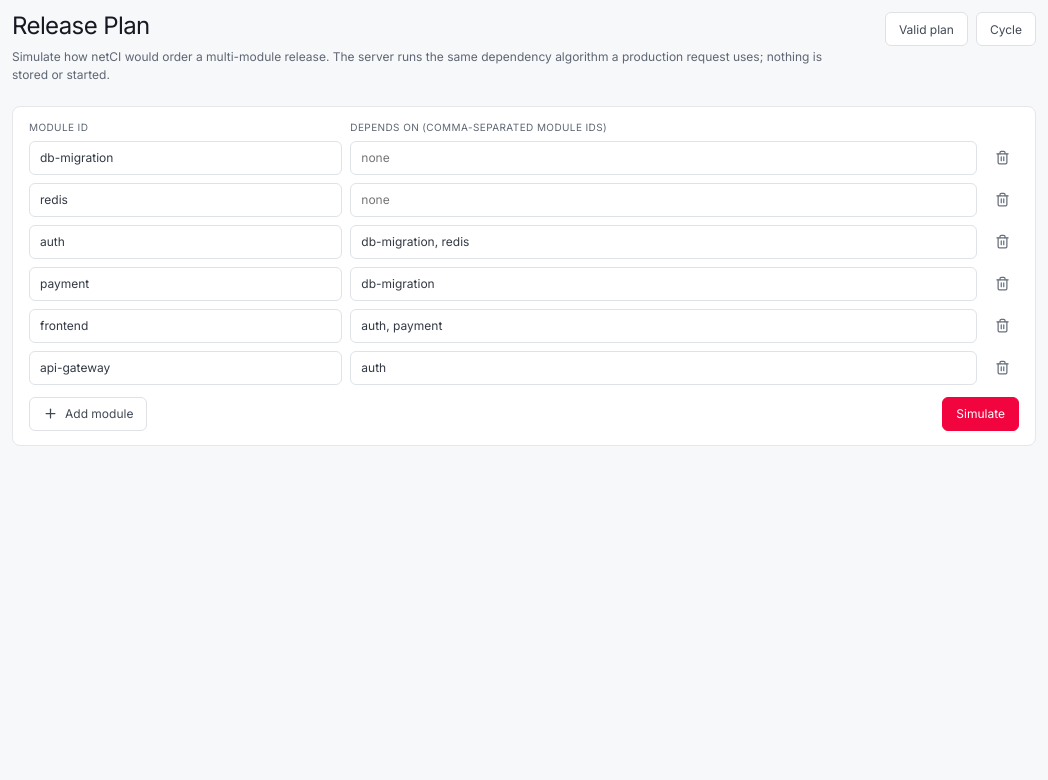
ReleasePlanPage › renders the waves the API returned as columns
The width and height of the screenshot is (1048, 780).
Click the button "Valid plan" at (926, 29), box [885,12,968,46]
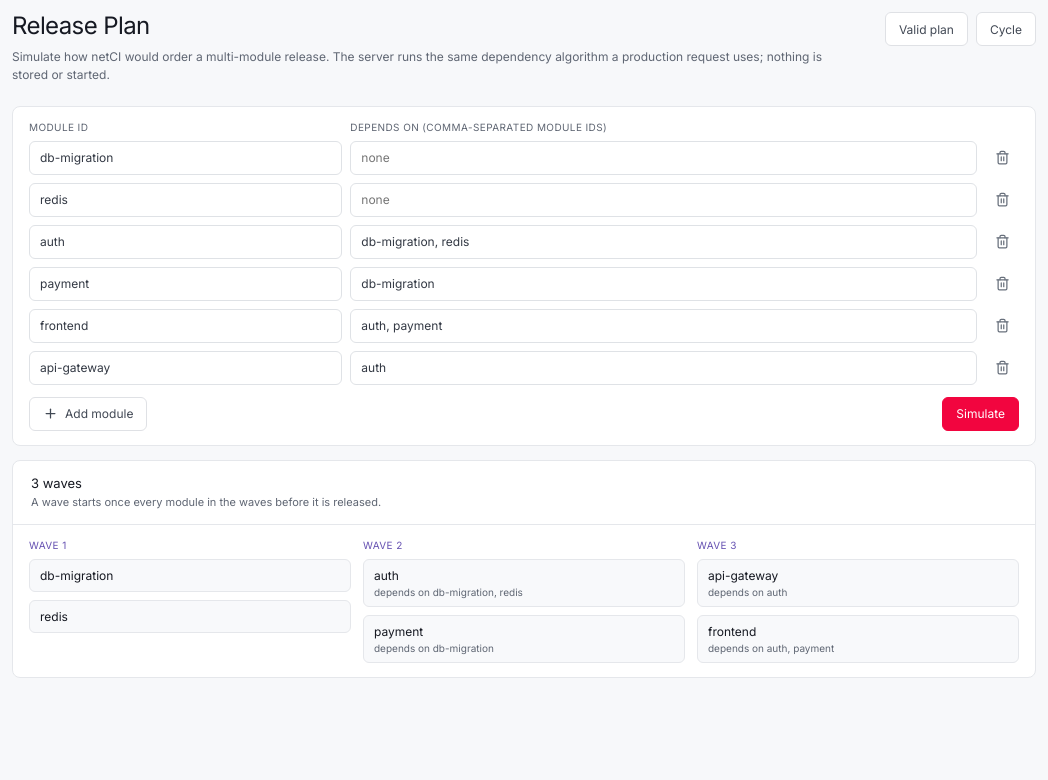
Now the heading "3 waves" is shown, box [31,475,82,491]
Now the text "db-migration" is shown, box [40,568,113,583]
Now the text "redis" is shown, box [40,609,68,624]
